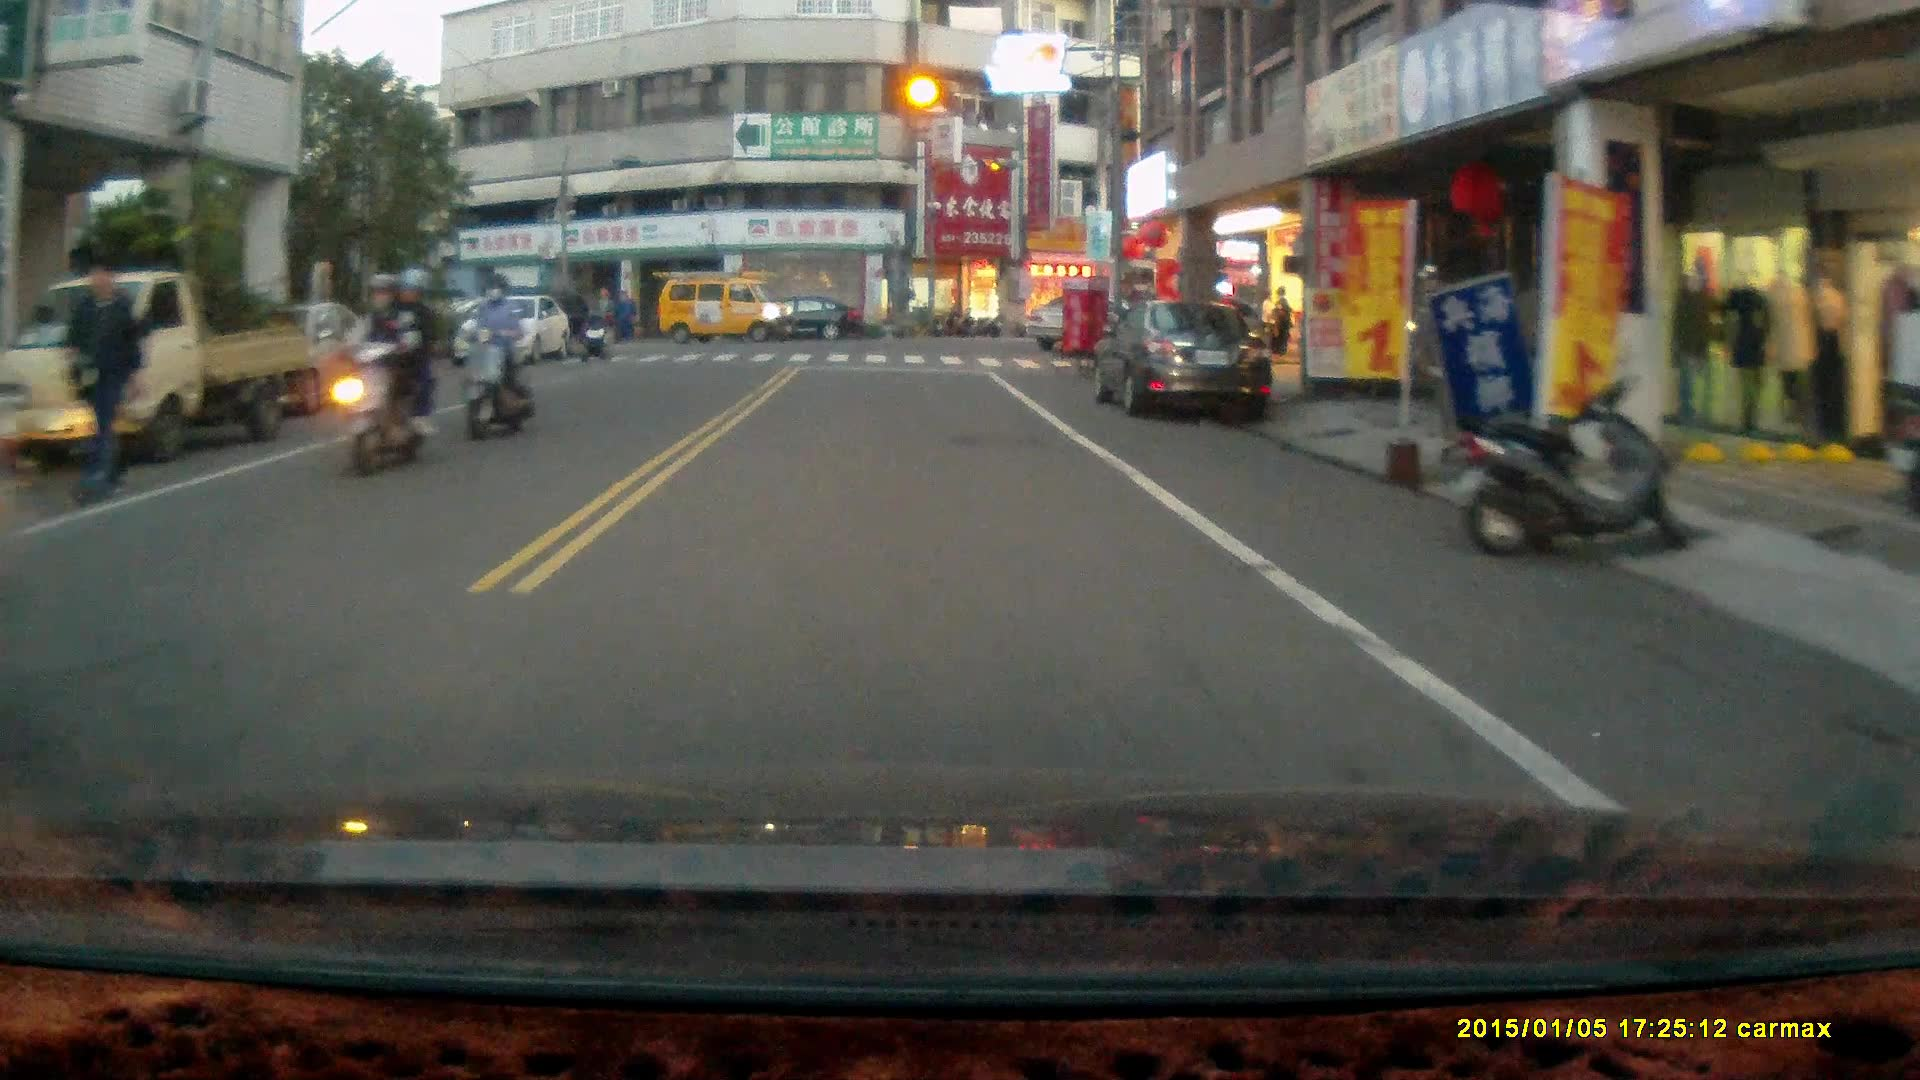pedestrian: (58, 255, 144, 503), (1268, 282, 1291, 360)
rider: (334, 262, 438, 477), (460, 271, 533, 441), (576, 307, 614, 364)
vehicle: (1, 270, 328, 467), (1084, 290, 1284, 435), (658, 267, 792, 341), (447, 291, 572, 366), (750, 290, 865, 340)
